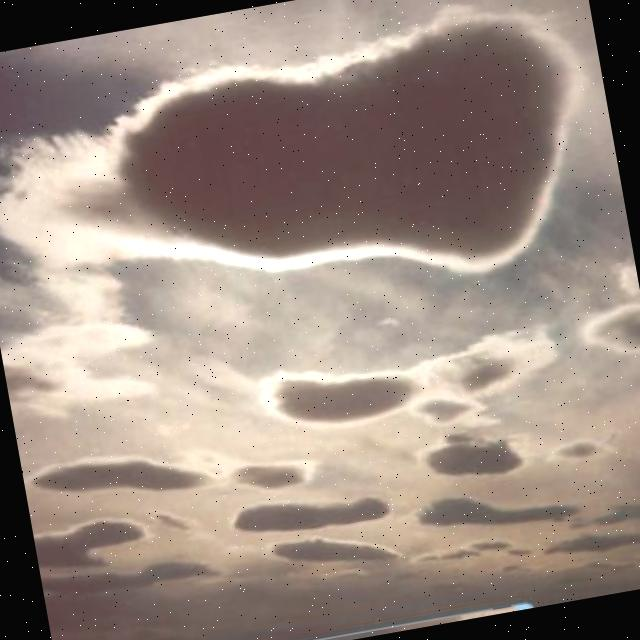Cs: (1, 1, 621, 380)
